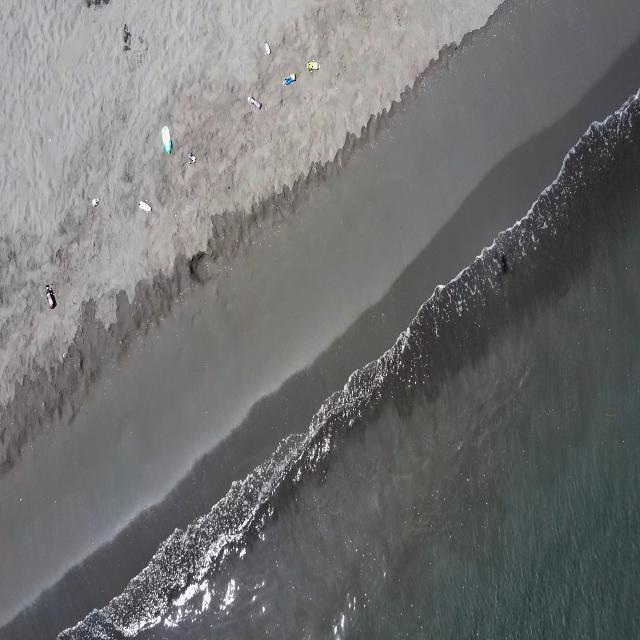plastic-bottle: (161, 124, 172, 156), (46, 284, 56, 310), (250, 96, 262, 112), (306, 60, 321, 72), (139, 200, 152, 213), (284, 74, 296, 86), (188, 152, 196, 164), (264, 41, 270, 54), (92, 196, 99, 206)
